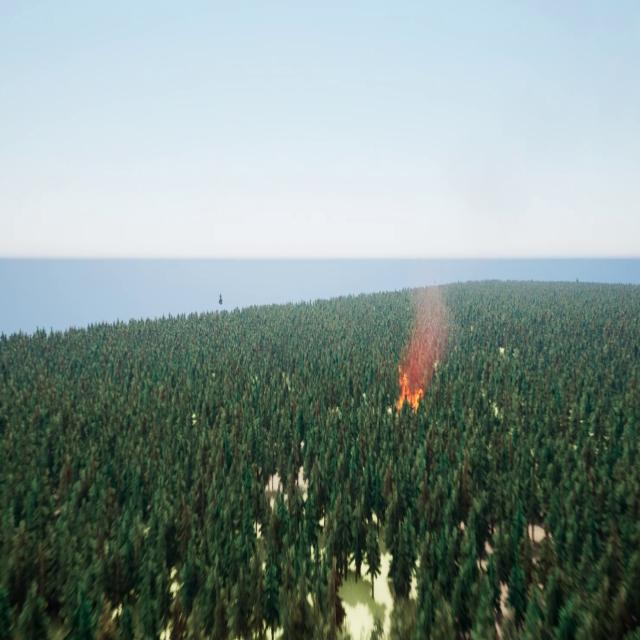fire: (394, 360, 424, 416)
smoke: (405, 283, 451, 393)
